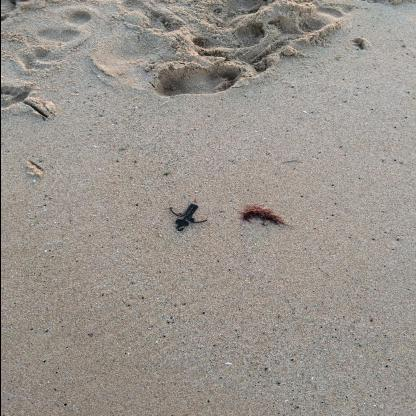plastik: (170, 204, 208, 233)
